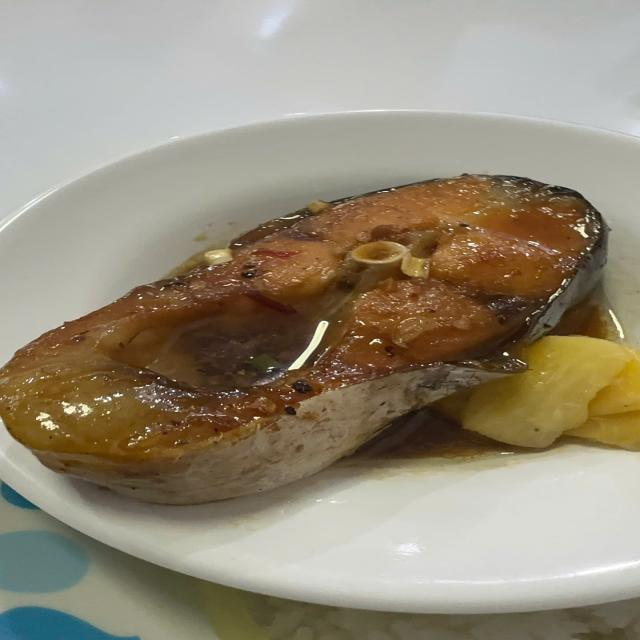ca kho: (0, 175, 608, 504)
